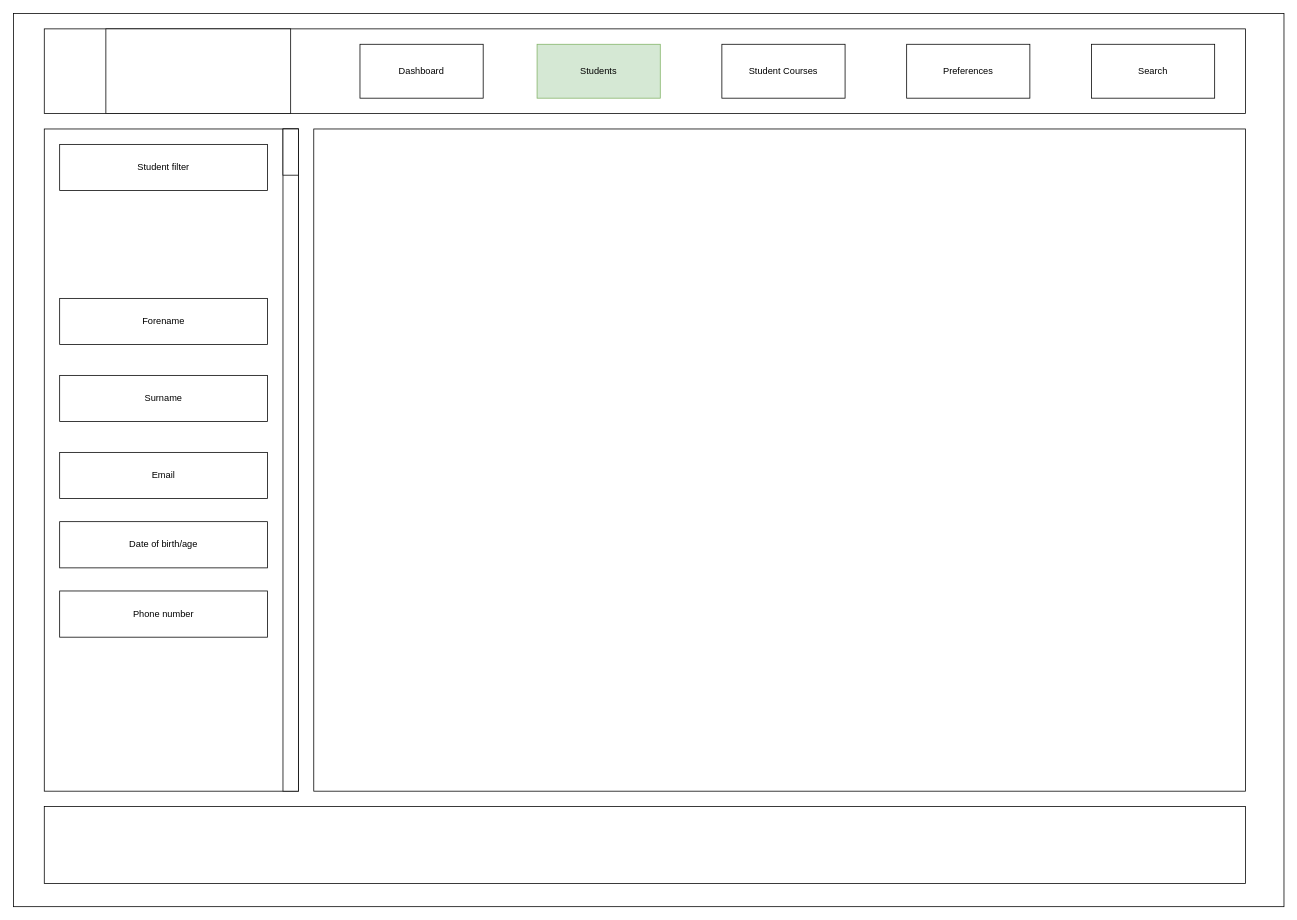
This 1297x920 diagram has some shape labels left out. Each missing label, with the centre of its shape:
All students within filter Arranged in basic bootstrap table: the point at 779,459
Footer: the point at 644,845
Logo: the point at 198,71
